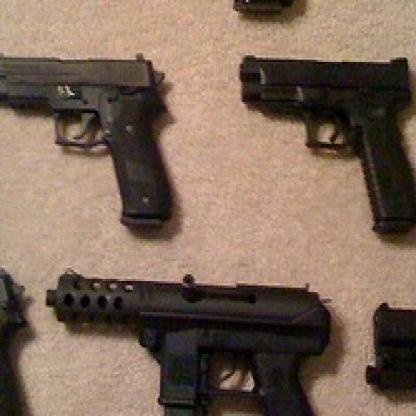gun: (37, 252, 341, 414), (230, 35, 414, 248), (0, 40, 183, 241)
